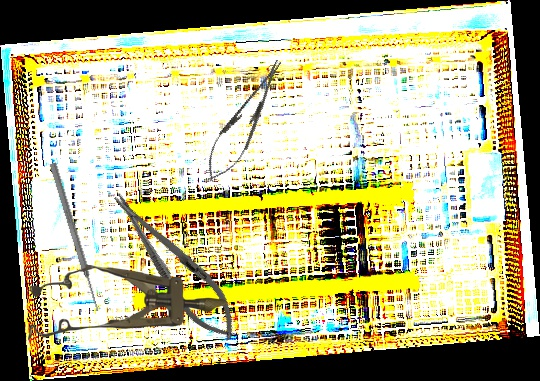Needle Holder: (99, 180, 251, 352), (196, 53, 294, 189)
Pusher: (47, 161, 103, 313)
Speculum: (28, 265, 226, 341)
